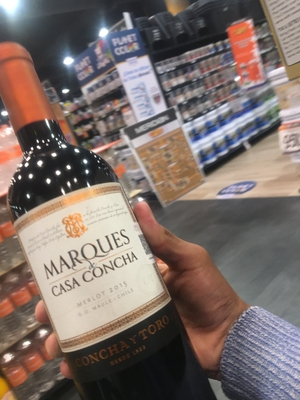marques de casa concha merlot: (1, 53, 208, 400)
